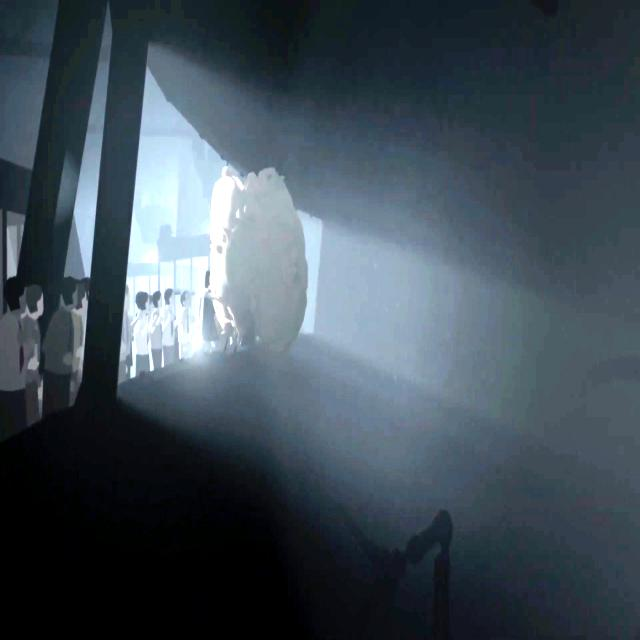blob: (209, 162, 310, 356)
human: (45, 276, 79, 410), (2, 274, 23, 431), (24, 282, 44, 420), (133, 289, 150, 376), (77, 276, 91, 372), (177, 290, 194, 359), (163, 288, 175, 366), (120, 287, 129, 380), (153, 290, 162, 368)
interactible: (200, 271, 217, 350)
mechanism: (338, 507, 451, 640)
